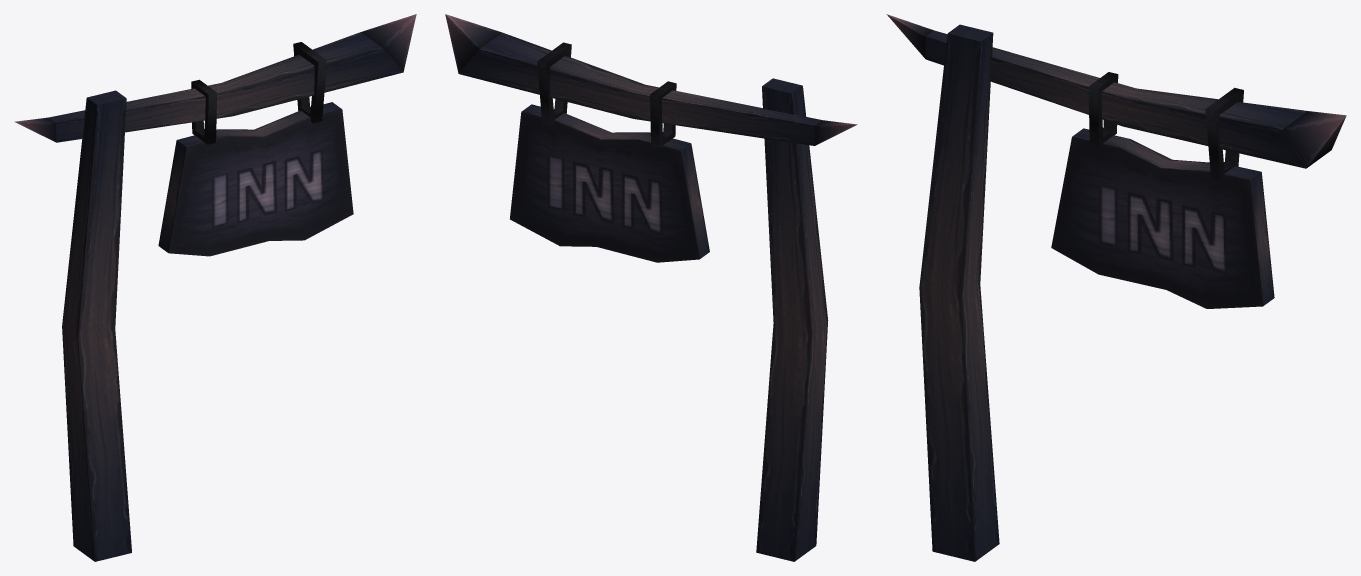
Rendered from Sign_Inn.fbx.
The picture shows the model from 3 angles, left to right: view 1: azimuth 30°, elevation 25°; view 2: azimuth 150°, elevation 25°; view 3: azimuth 330°, elevation 25°; orthographic projection. The views are drawn at different scales.
Visible parts, largest first — view 1: Sign_Inn; view 2: Sign_Inn; view 3: Sign_Inn.
Boxes of the visible parts, left/top/right/bottom form: Sign_Inn: left=14, top=14, right=416, bottom=561; Sign_Inn: left=445, top=14, right=857, bottom=561; Sign_Inn: left=886, top=14, right=1346, bottom=561.
Bounding box in the file's own units: 108 × 115 × 15.24.
1 material, 1 textured.
